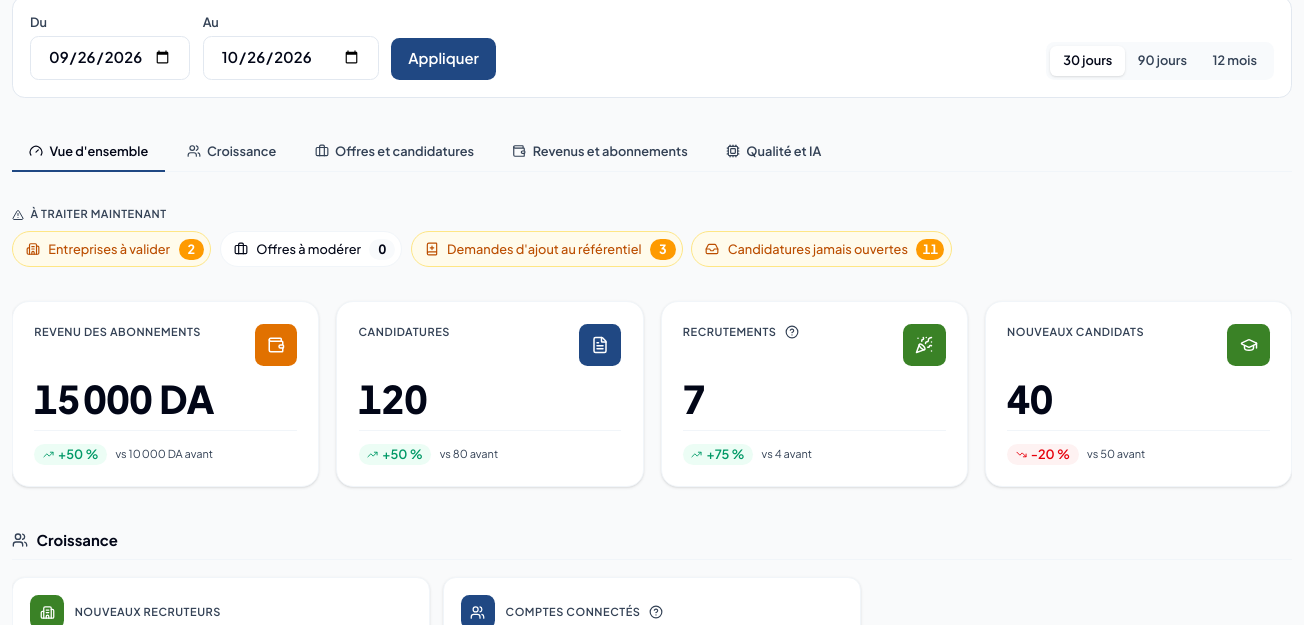
it: 📈 UI & Logique - Composant <AdminKpi /> › indique l'absence de données d'une répartition vide
The image size is (1304, 625).
What coordinates should you click on to do the following:
click the tab "Offres et candidatures"
I would click on:
 (394, 152)
Its box is [298,132,491,172].
(page scrolled)
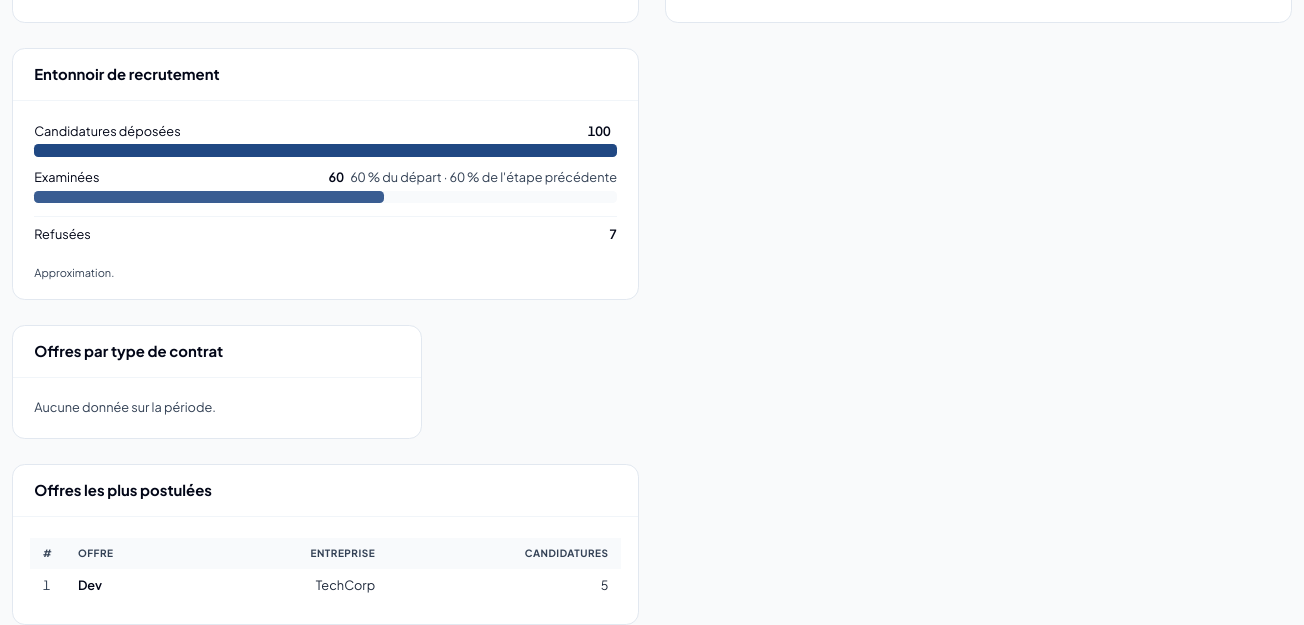
Result: the text "Aucune donnée sur la période." is shown at [34,399,216,415]
